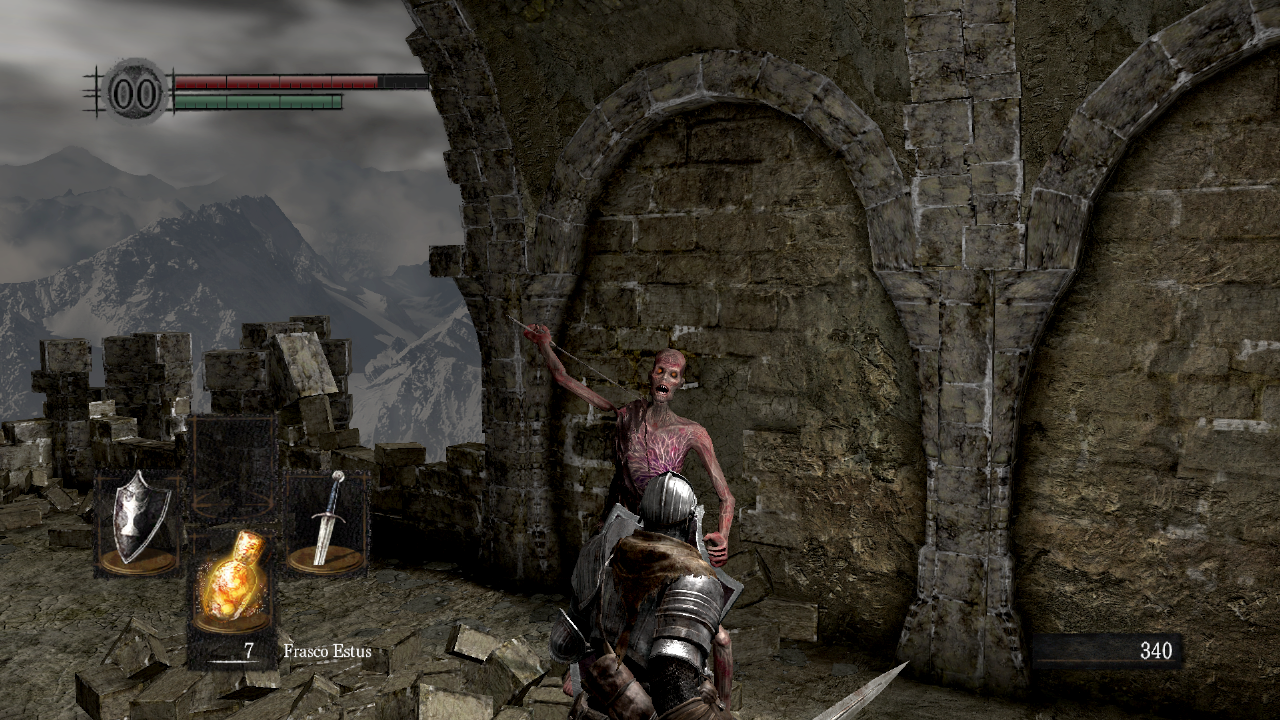hollow: (504, 314, 736, 714)
player: (547, 470, 912, 720)
